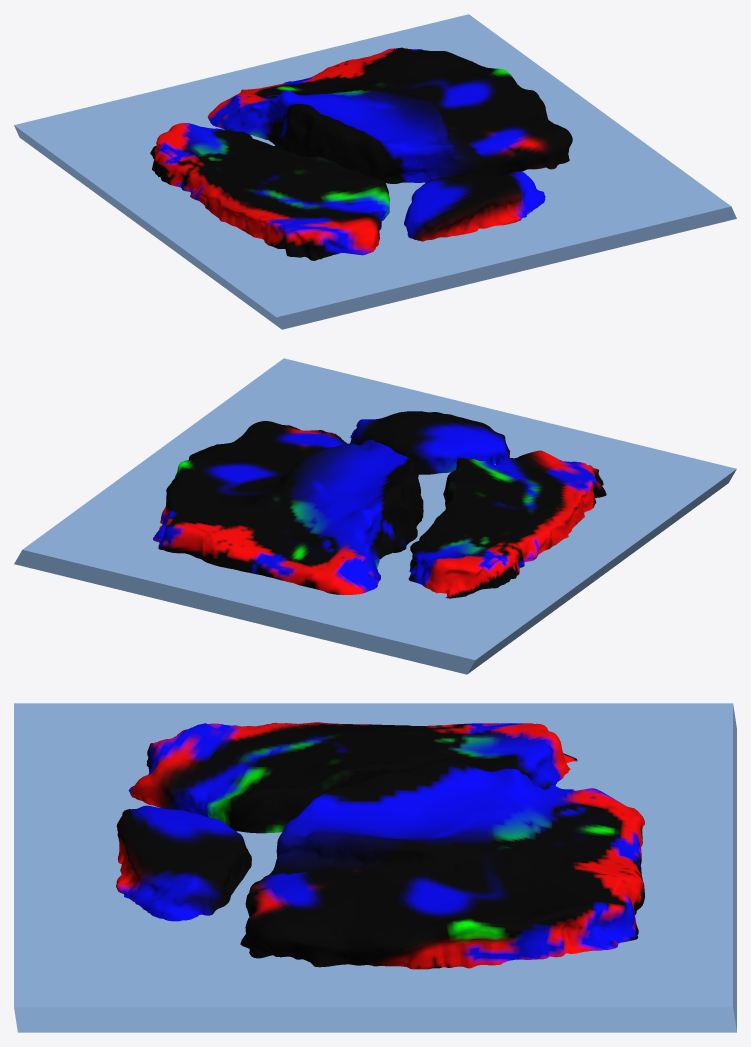
File: Terrain.gltf
The picture shows the model from 3 angles, top to bottom: view 1: azimuth 30°, elevation 25°; view 2: azimuth 150°, elevation 25°; view 3: azimuth 270°, elevation 25°; orthographic projection. The views are drawn at different scales.
Visible parts, largest first — view 1: water, terrain; view 2: water, terrain; view 3: water, terrain.
Boxes of the visible parts, x1,y1,x2,y2 form: water: (14, 14, 736, 329); terrain: (150, 47, 572, 260); water: (14, 358, 736, 674); terrain: (153, 411, 606, 598); water: (14, 703, 736, 1032); terrain: (116, 722, 644, 969).
Size of what is drawn, in the model's own units: 2030 by 291 by 2011.
2 materials, 1 textured.
